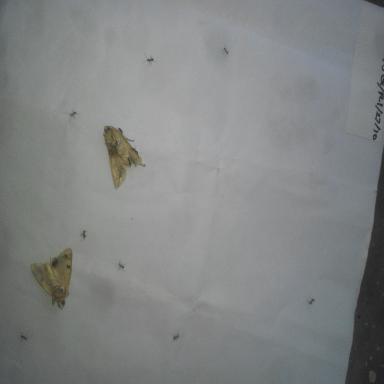abw: (27, 245, 76, 315), (100, 122, 147, 192)
